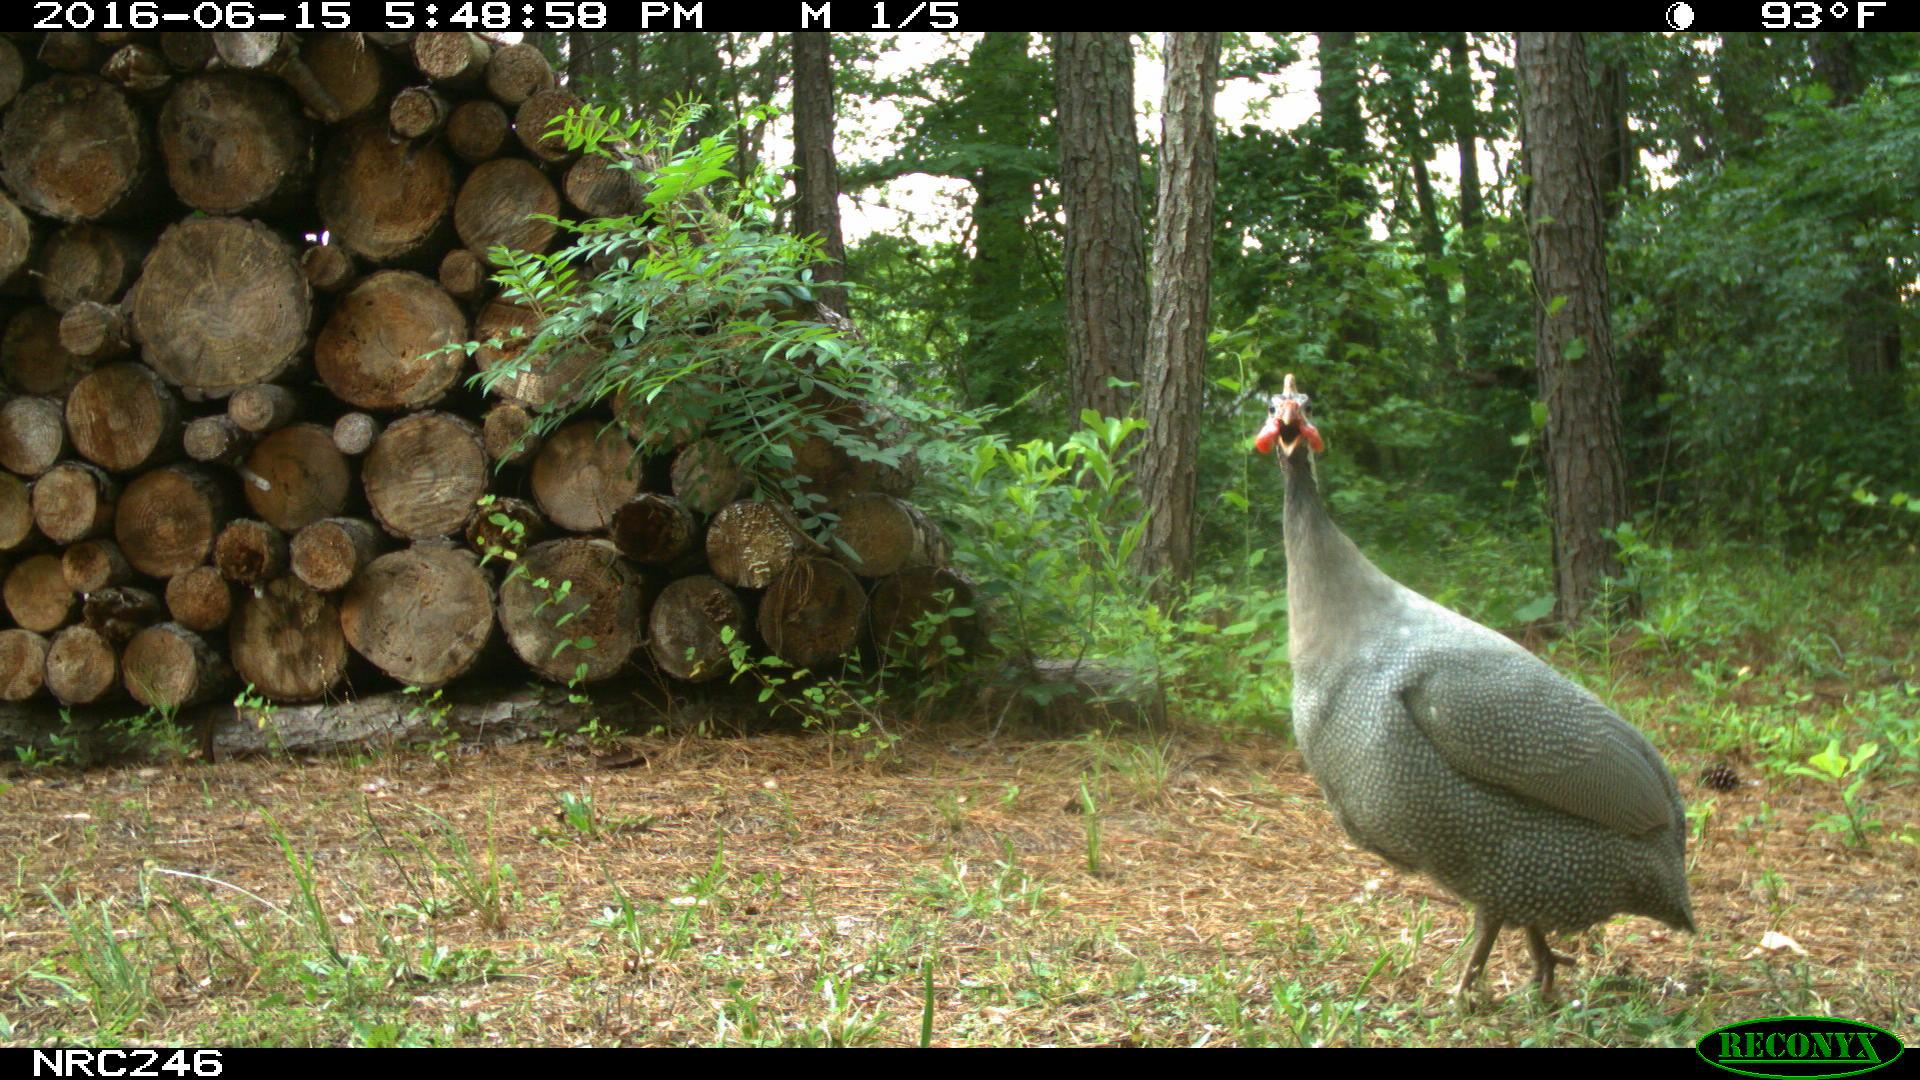Animal: (1255, 371, 1691, 1015)
